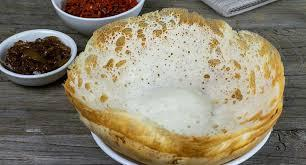Hoppers: (67, 6, 291, 156)
